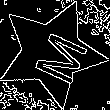M_NW: (19, 22, 84, 84)
